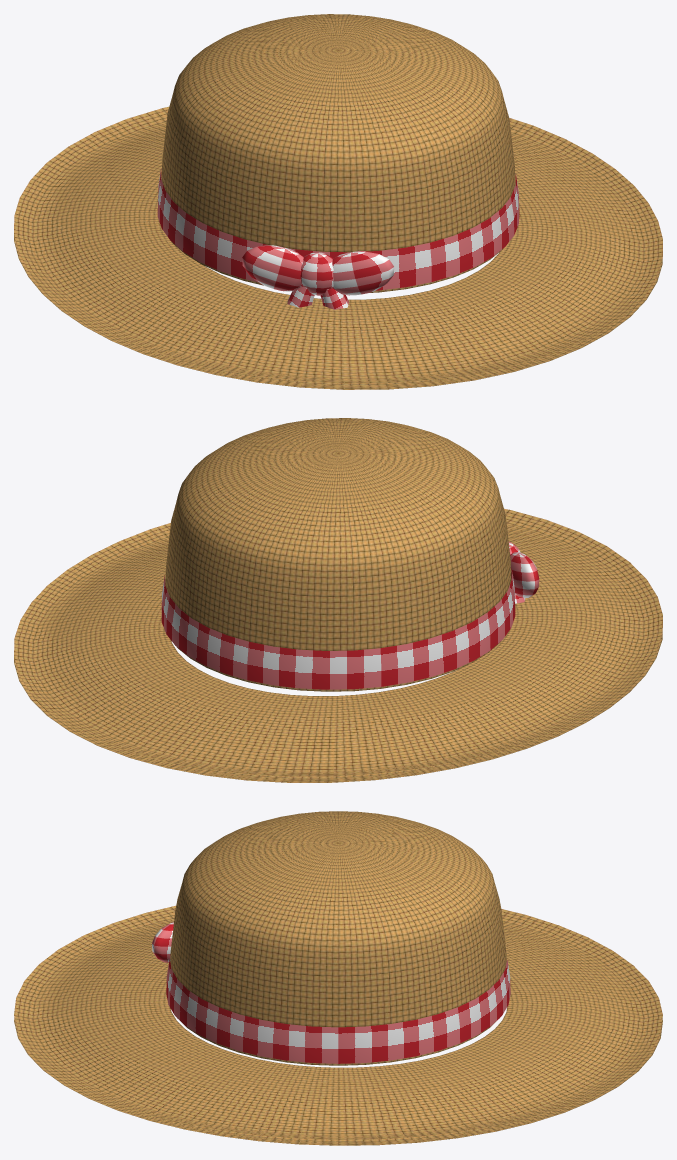
File: hat3d_straw.0be680ef.glb
3 renders of one model, top to bottom at view 1: azimuth 30°, elevation 25°; view 2: azimuth 150°, elevation 25°; view 3: azimuth 270°, elevation 25°, orthographic. The views are drawn at different scales.
Parts seen in each view (by area): view 1: hat_straw; view 2: hat_straw; view 3: hat_straw.
Part boxes in pixels (<box>): hat_straw: <box>14,14,662,389</box>; hat_straw: <box>14,418,662,782</box>; hat_straw: <box>14,811,662,1145</box>.
Bounding box in the file's own units: 0.5484 × 0.1901 × 0.6028.
Materials: 2 (2 with a texture image).
